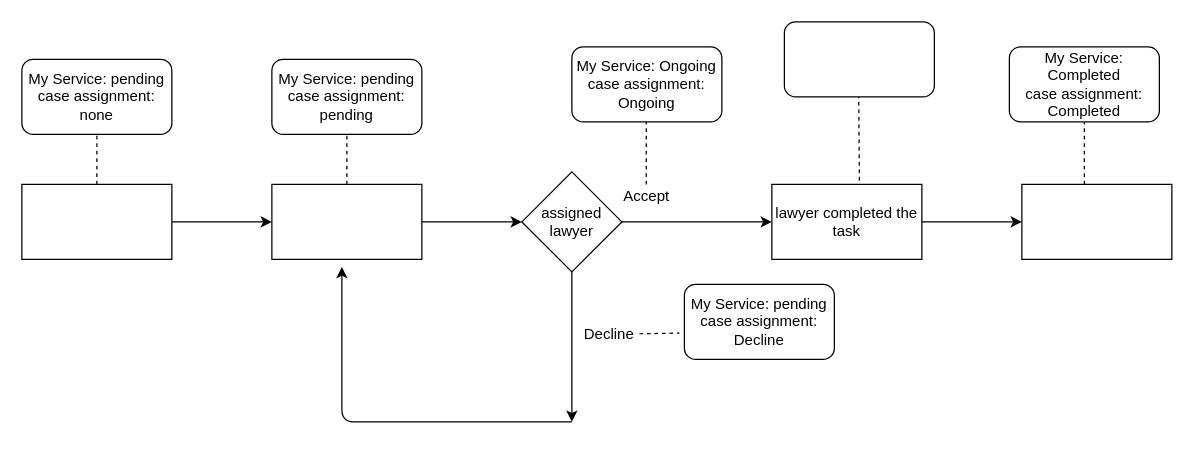
The diagram is 1194 pixels wide and 454 high, and some of its shapes have lost their labels. The centre of each missing label's shape, as x and y in pixels:
memeber: Register for legal service: [96,221]
My Service: Ongoing case assignment: Completed: [858,59]
Super Admin assign a lawyer: [346,221]
Super Admin Resolve the case: [1096,221]
